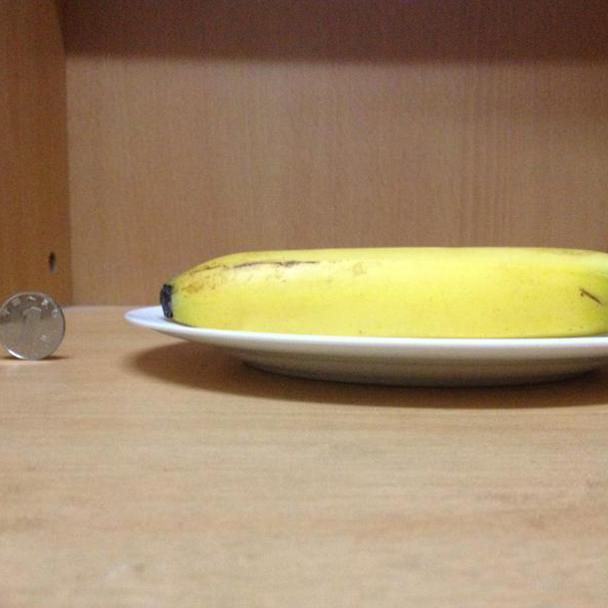banana: (152, 243, 607, 338)
